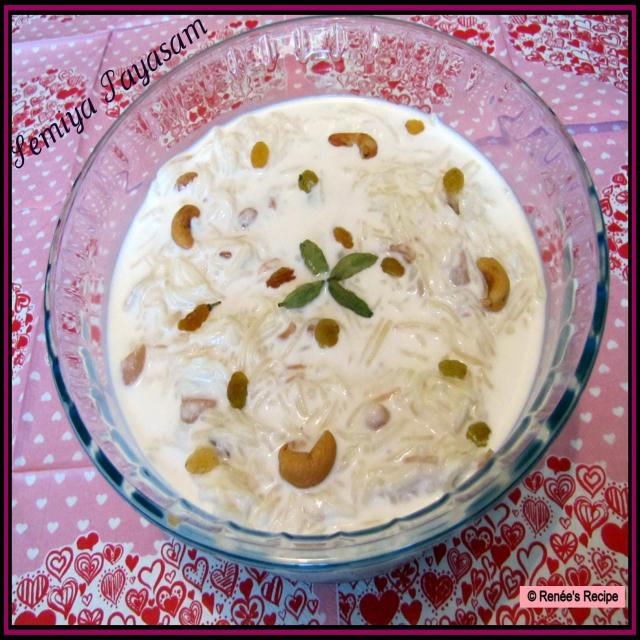shavige payasa: (94, 78, 558, 548)
